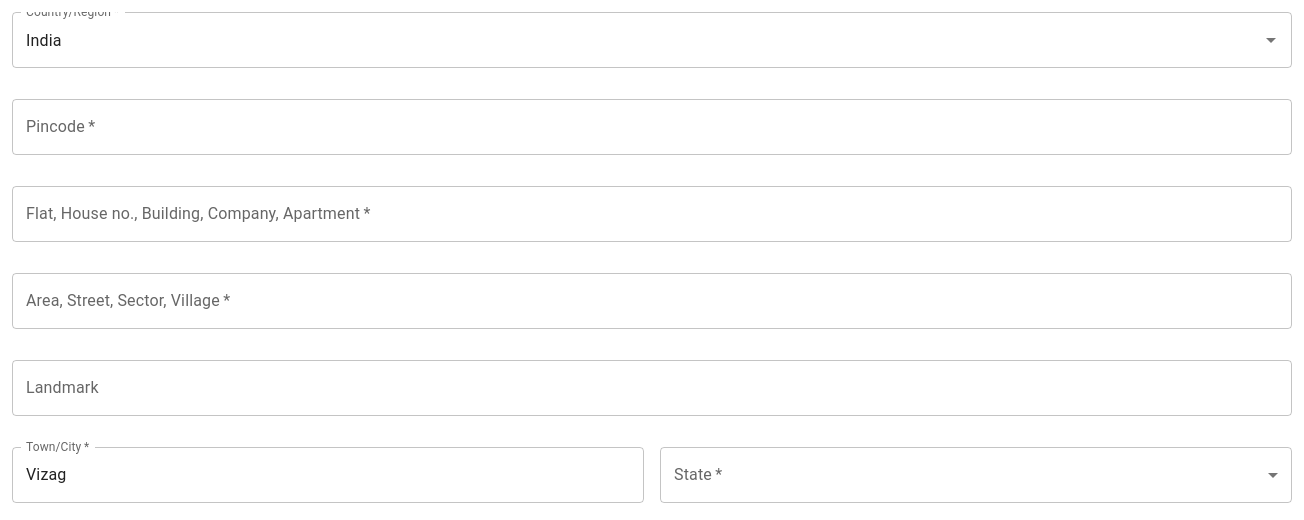
Test: AddressFields - PIN code lookup › says so when the PIN code is unknown, and leaves what was typed alone
This screenshot has width=1304, height=520.
Type "999999" into the field labelled "Pincode *". click: [652, 127]
box: x1=12 y1=99 x2=1292 y2=155
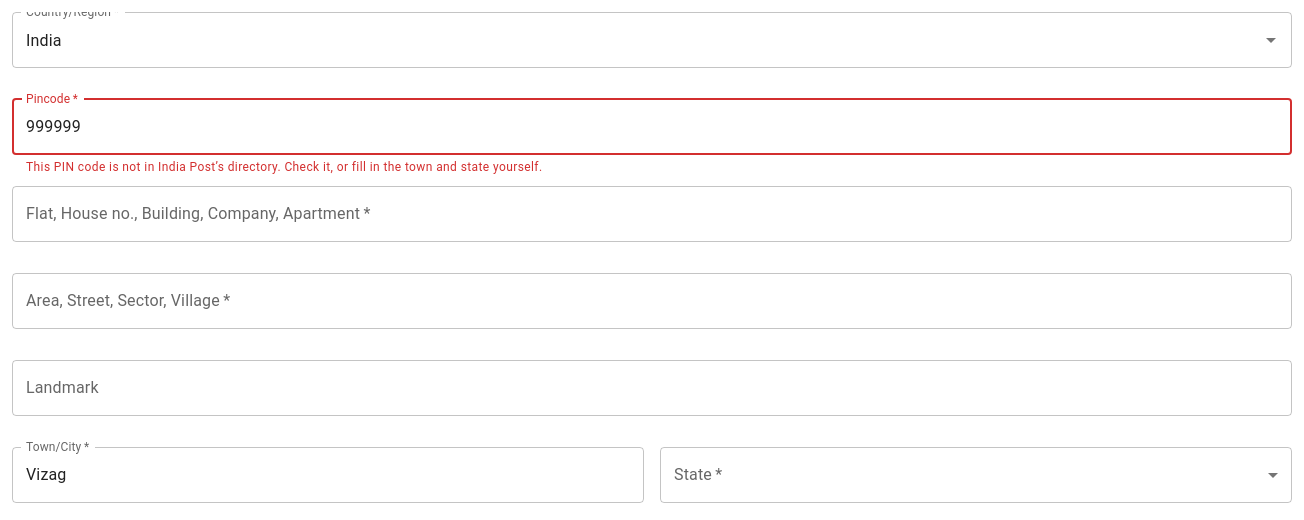
Expected: the text "not in India Post’s directory" is shown, x1=26 y1=160 x2=542 y2=174
